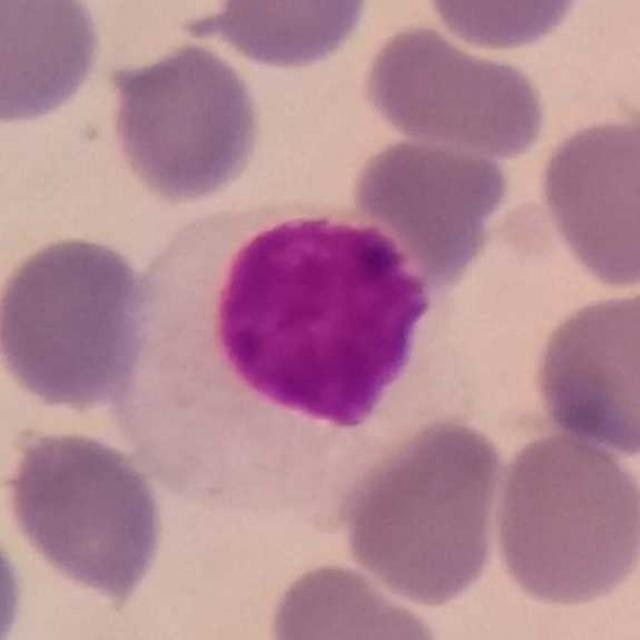Lymphocyte: (108, 196, 477, 526)
RBC: (332, 412, 511, 609), (0, 422, 170, 605), (0, 229, 159, 413), (485, 426, 640, 610), (355, 20, 552, 160), (104, 38, 267, 206), (346, 129, 514, 261), (527, 281, 640, 459), (535, 105, 640, 292), (262, 556, 453, 640), (0, 0, 107, 129), (201, 0, 376, 72), (418, 0, 592, 55), (0, 503, 29, 640)
